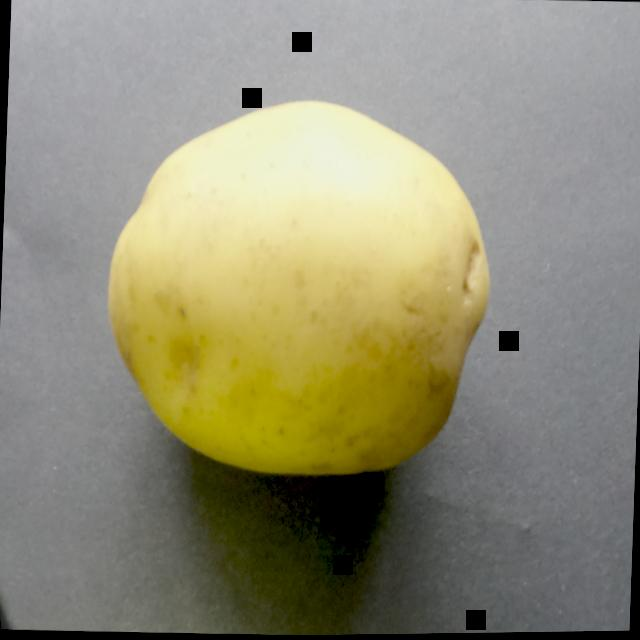Potato: (78, 48, 510, 520)
